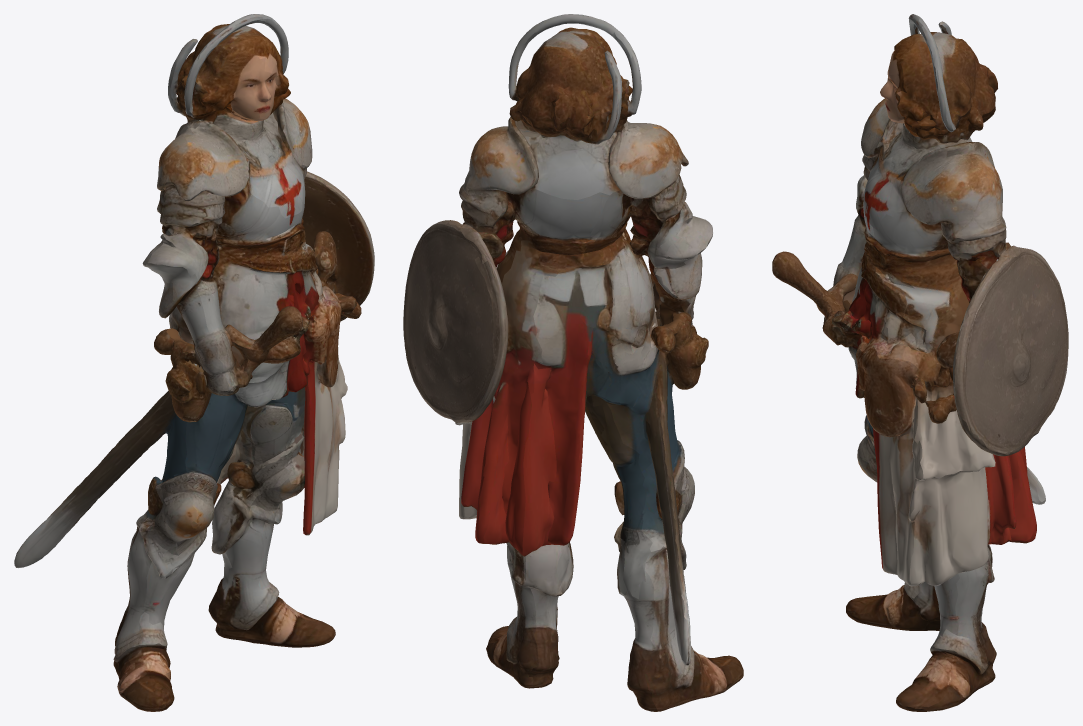
Rendered from JoanOfArc.glb.
3 views of the same model, side by side, from view 1: azimuth 30°, elevation 25°; view 2: azimuth 150°, elevation 25°; view 3: azimuth 270°, elevation 25° (orthographic). The views are drawn at different scales.
Visible parts, largest first — view 1: textured_mesh.obj; view 2: textured_mesh.obj; view 3: textured_mesh.obj.
Boxes of the visible parts, box(x1,y1,x2,y2) form: textured_mesh.obj: box(14, 14, 374, 711); textured_mesh.obj: box(403, 14, 743, 711); textured_mesh.obj: box(772, 14, 1068, 711).
Bounding box in the file's own units: 1.04 × 1.99 × 0.819.
Materials: 1 (1 with a texture image).
